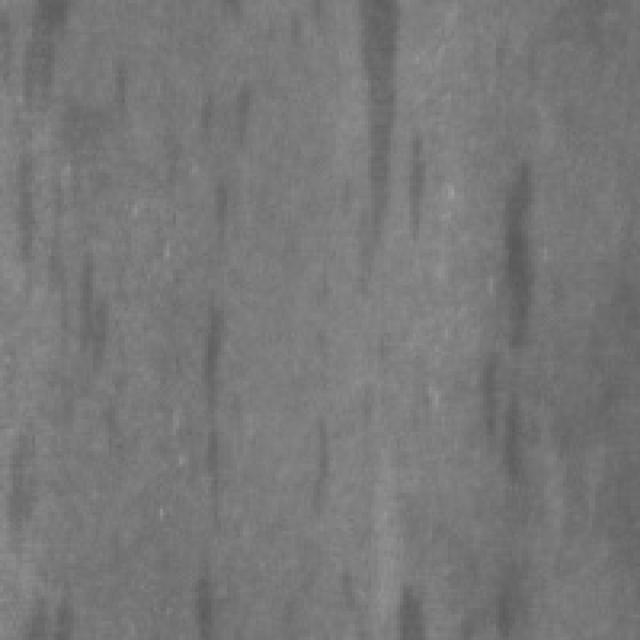inclusion: (163, 294, 250, 628), (332, 0, 410, 304), (480, 144, 547, 349), (42, 227, 115, 400), (464, 330, 528, 496), (180, 70, 247, 180), (291, 397, 339, 541), (195, 160, 237, 259)
